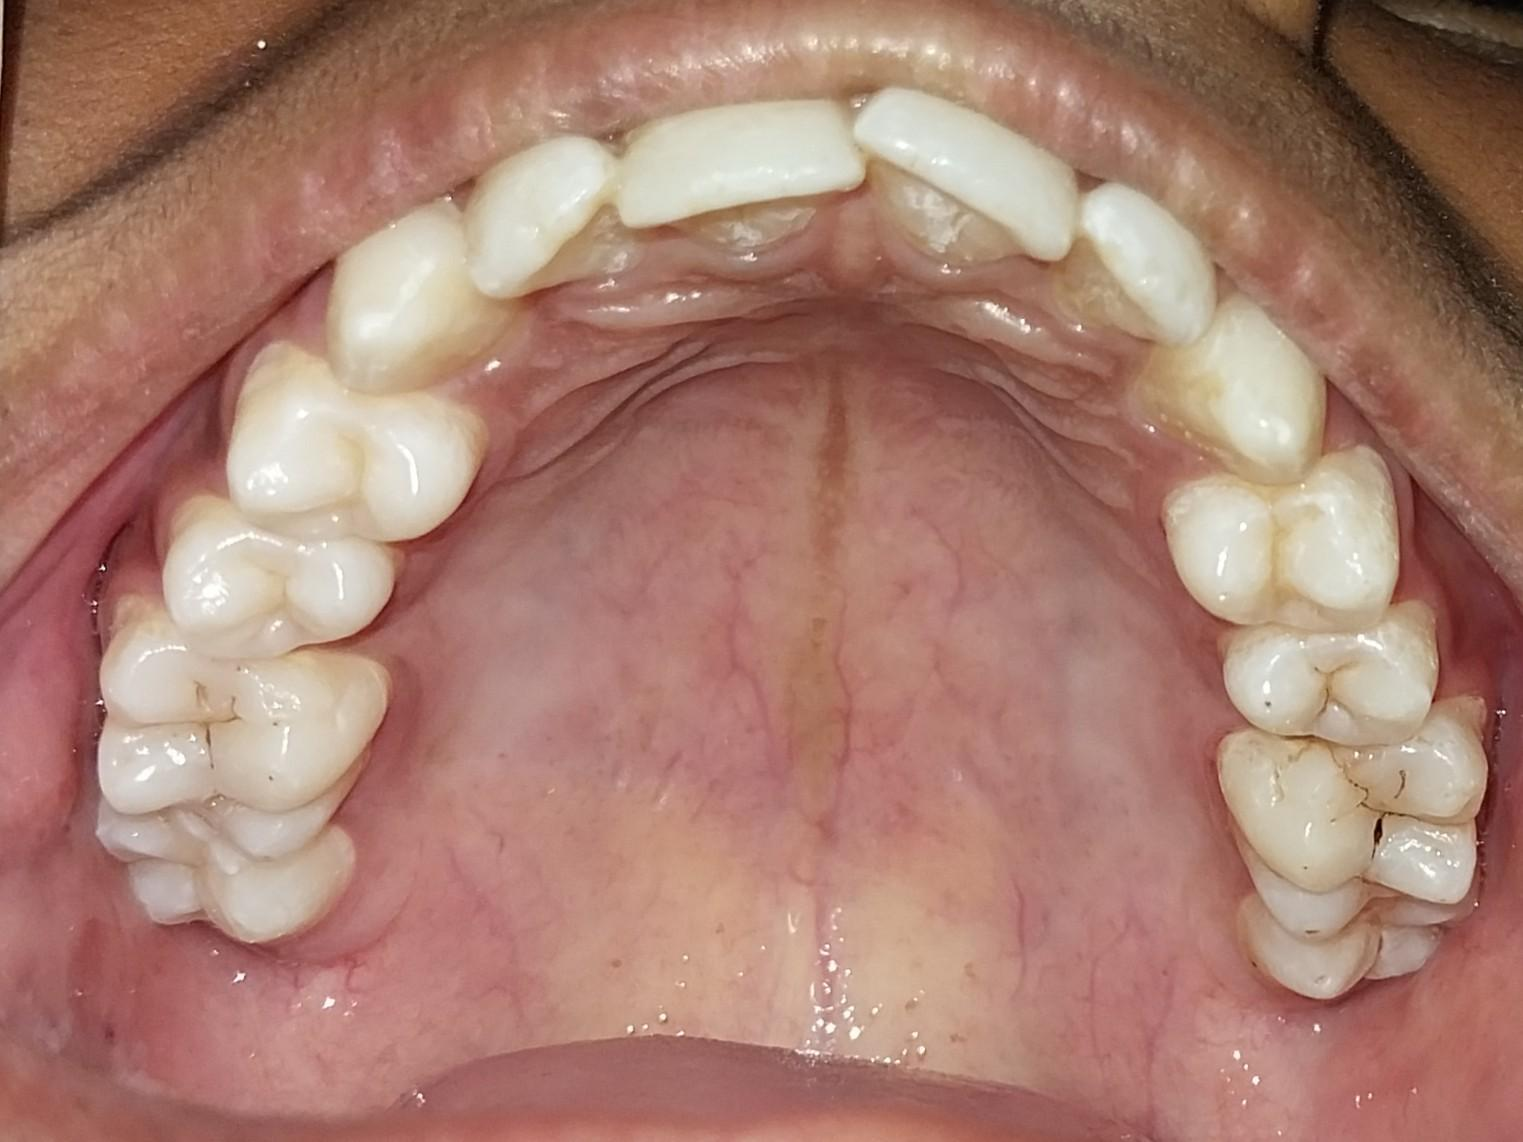D: (90, 617, 371, 855), (1224, 709, 1494, 924), (1205, 624, 1438, 742)
